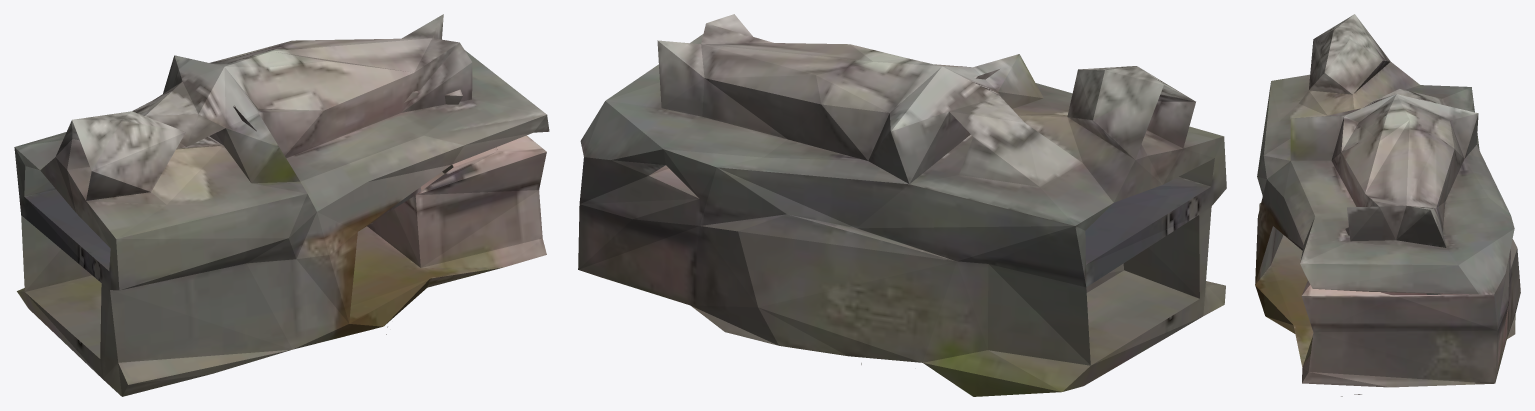
The model's file is sarcophagus.glb.
3 views of the same model, side by side, from view 1: azimuth 30°, elevation 25°; view 2: azimuth 150°, elevation 25°; view 3: azimuth 270°, elevation 25° (orthographic). The views are drawn at different scales.
Visible parts, largest first — view 1: sarcophagus; view 2: sarcophagus; view 3: sarcophagus.
Part boxes in pixels (<box>): sarcophagus: <box>14,14,549,396</box>; sarcophagus: <box>578,14,1226,396</box>; sarcophagus: <box>1255,14,1520,396</box>.
Size of the model in its own units: 2.4 by 1.25 by 1.41.
Materials: 1 (1 with a texture image).
